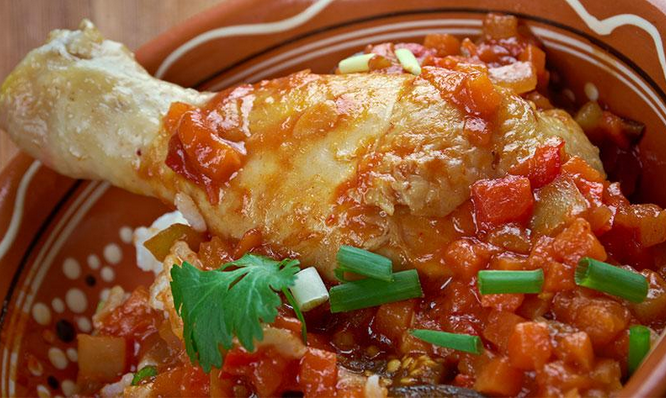carottes: (482, 321, 529, 381)
feuilles vetes: (173, 264, 277, 342)
poireau: (297, 267, 323, 303)
poulet: (71, 75, 434, 237)
tomates: (474, 176, 530, 217)
